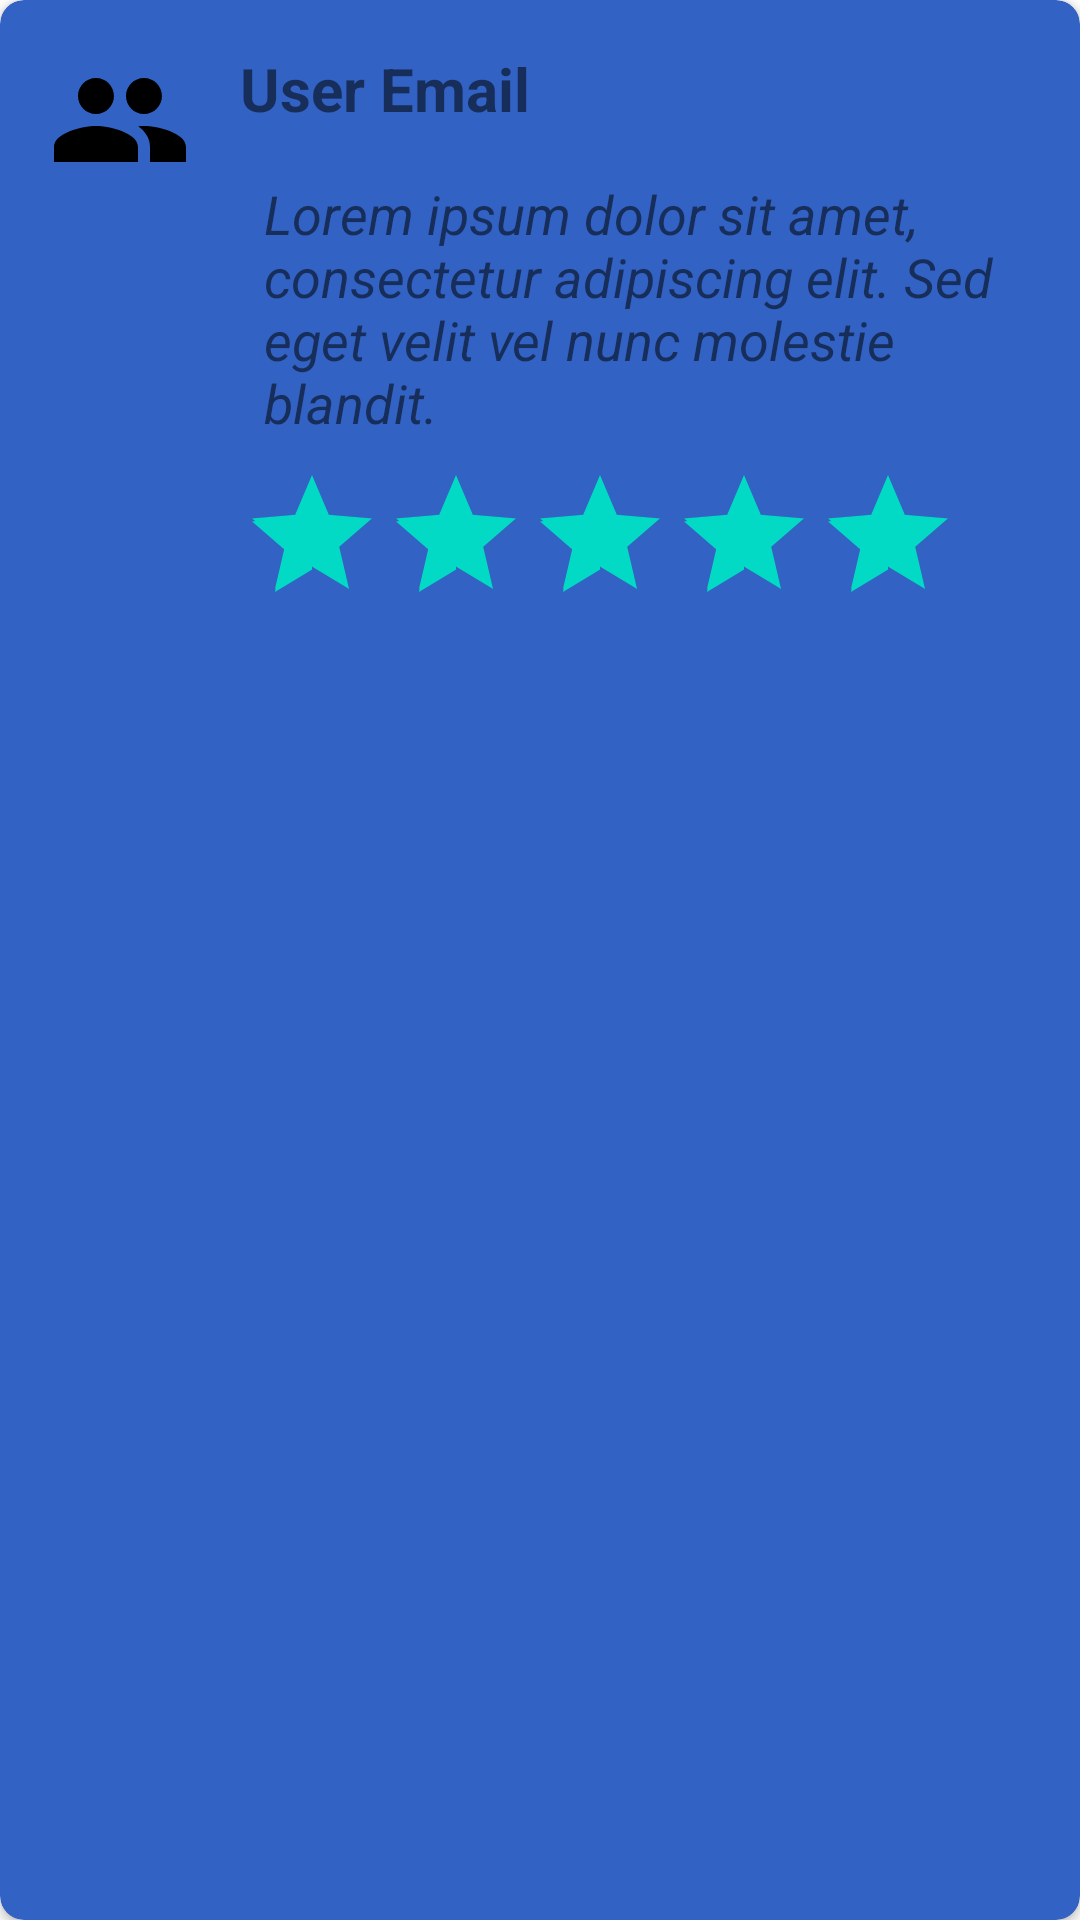

Icons on this 1080 x 1920 Android screen, each with its box as [x1, y1, x2, y2]:
people: [54, 78, 186, 162]
